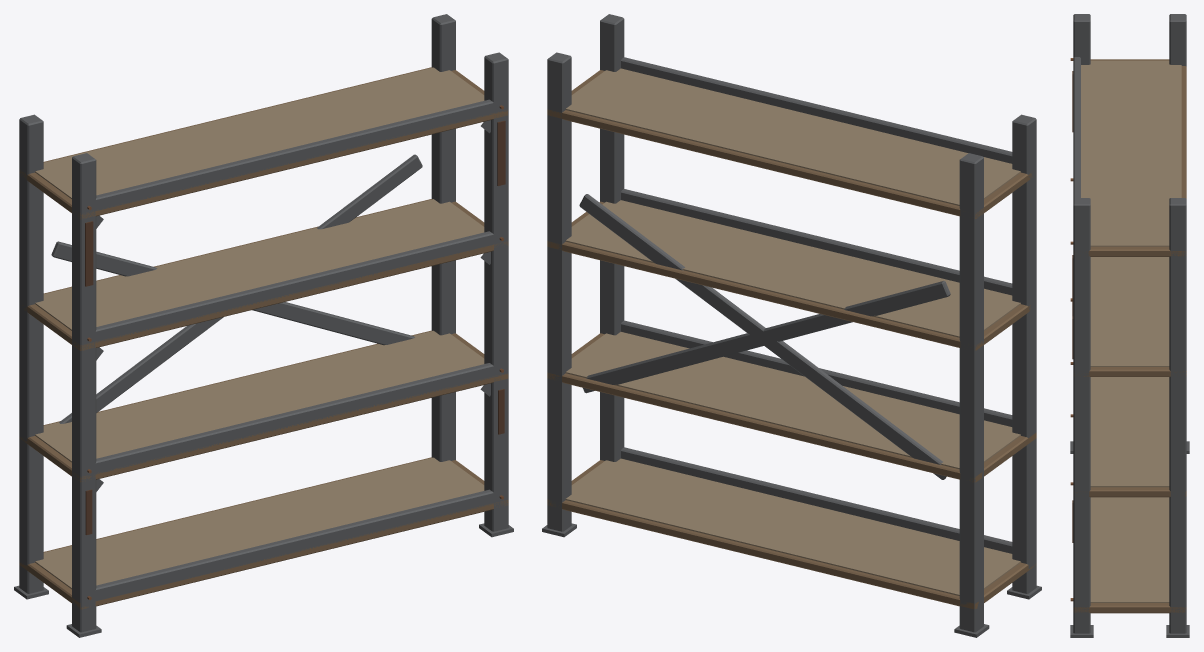
File: Shelving.fbx
3 renders of one model, left to right at view 1: azimuth 30°, elevation 25°; view 2: azimuth 150°, elevation 25°; view 3: azimuth 270°, elevation 25°, orthographic. The views are drawn at different scales.
Visible parts, largest first — view 1: Shelving; view 2: Shelving; view 3: Shelving.
Boxes of the visible parts, x1=… form: Shelving: x1=14, y1=14, x2=513, y2=637; Shelving: x1=542, y1=14, x2=1041, y2=637; Shelving: x1=1070, y1=14, x2=1189, y2=637.
Bounding box in the file's own units: 187 × 194 × 48.5.
